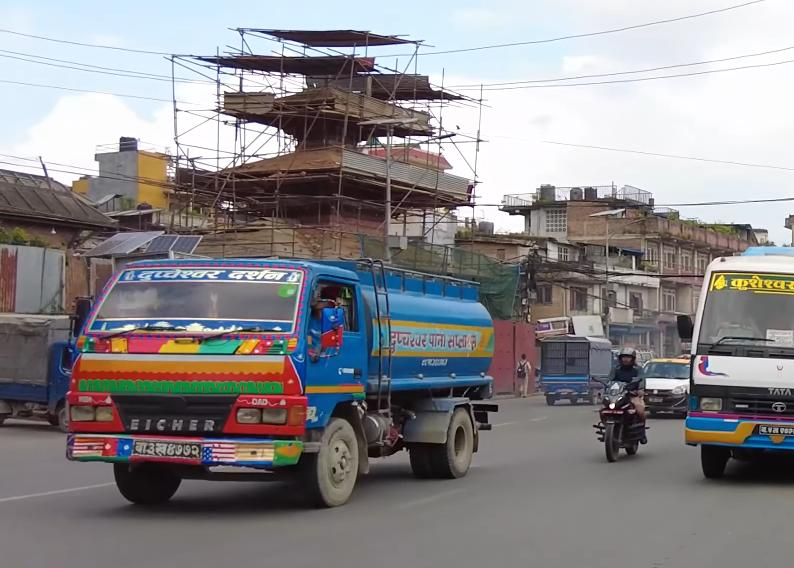bike: (595, 348, 650, 457)
bus: (683, 235, 794, 494)
mini_truck: (60, 247, 501, 510)
taxi: (652, 348, 692, 417)
transport_vehicle: (0, 294, 79, 436), (535, 325, 615, 407)
